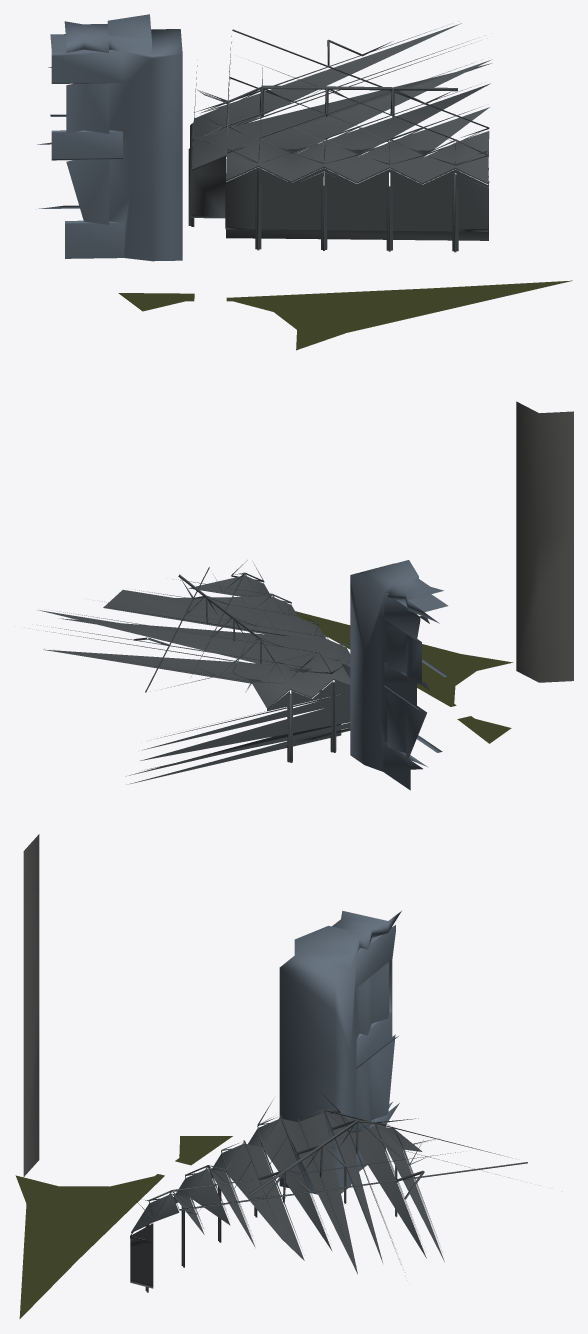
3 views of the same model, one above another, from view 1: azimuth 30°, elevation 25°; view 2: azimuth 150°, elevation 25°; view 3: azimuth 270°, elevation 25° (orthographic). The views are drawn at different scales.
Visible parts, largest first — view 1: merged__lod1; view 2: merged__lod1; view 3: merged__lod1.
Boxes of the visible parts, x1,y1,x2,y2 form: merged__lod1: (37, 14, 572, 350); merged__lod1: (38, 401, 573, 790); merged__lod1: (15, 834, 527, 1318).
Bounding box in the file's own units: 294 × 178 × 278.
